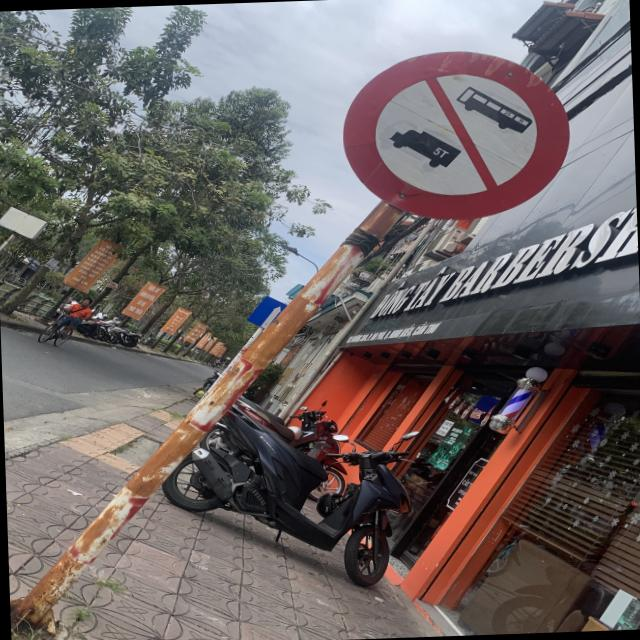Cam_XeTai_XeKhach: (338, 46, 574, 225)
